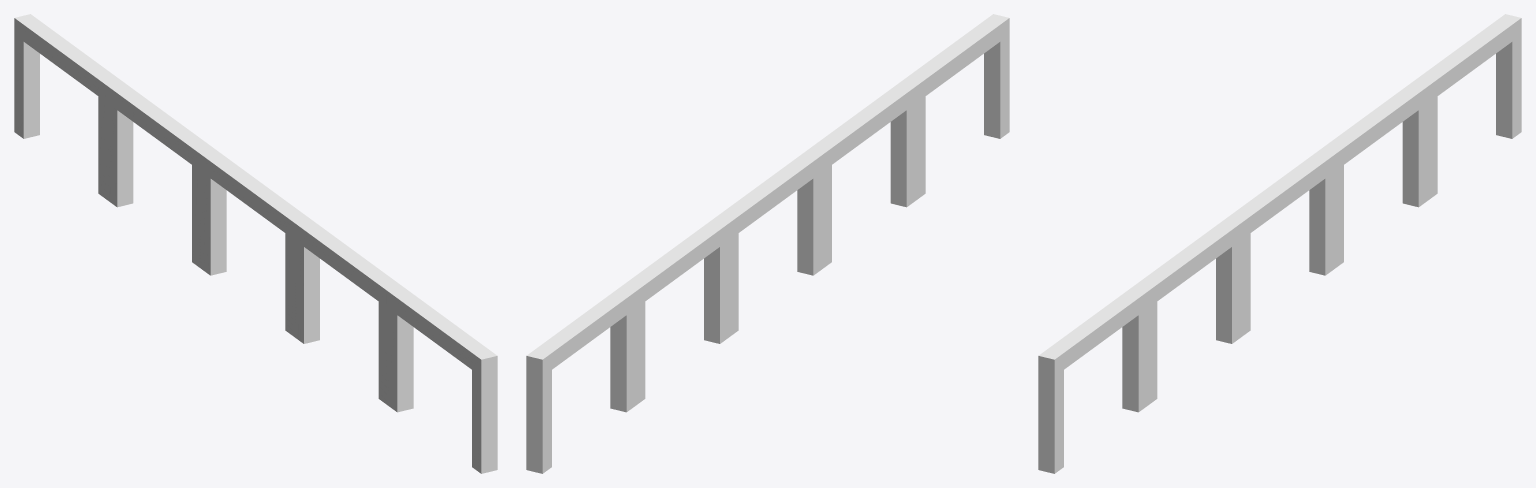
The model's file is SM_Buildings_Rail_5x1_01.glb.
3 renders of one model, left to right at view 1: azimuth 30°, elevation 25°; view 2: azimuth 150°, elevation 25°; view 3: azimuth 330°, elevation 25°, orthographic.
Visible parts, largest first — view 1: SM_Buildings_Rail_5x1_01; view 2: SM_Buildings_Rail_5x1_01; view 3: SM_Buildings_Rail_5x1_01.
Boxes of the visible parts, <box> form: SM_Buildings_Rail_5x1_01: <box>14,14,497,473</box>; SM_Buildings_Rail_5x1_01: <box>526,14,1009,473</box>; SM_Buildings_Rail_5x1_01: <box>1038,14,1521,473</box>.
Size of the model in its own units: 0.1 by 0.675 by 5.
Materials: 1 (1 with a texture image).
